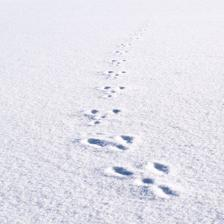rabbit: (109, 160, 179, 203), (84, 132, 134, 156)
